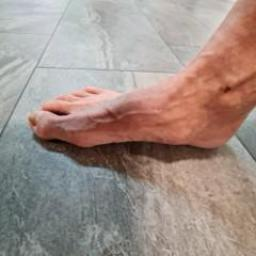Medial View -Right Foot-: (17, 44, 255, 176)
